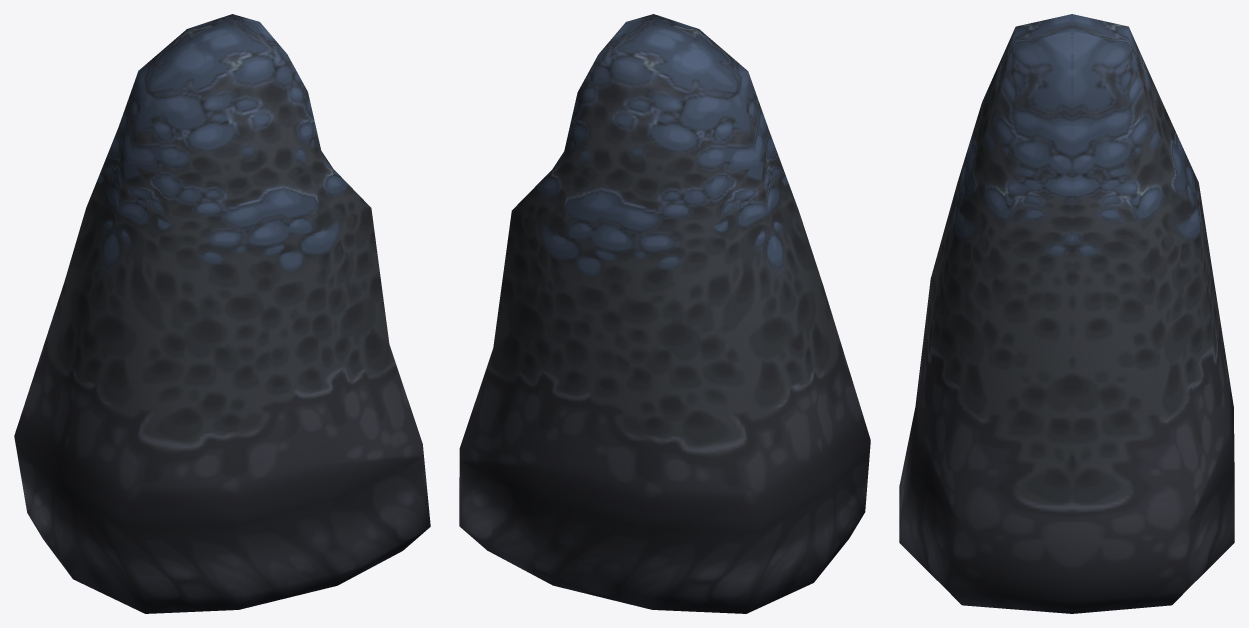
The model's file is Rock_05b.FBX.
3 renders of one model, left to right at view 1: azimuth 30°, elevation 25°; view 2: azimuth 150°, elevation 25°; view 3: azimuth 270°, elevation 25°, orthographic. The views are drawn at different scales.
Visible parts, largest first — view 1: Rock_05b; view 2: Rock_05b; view 3: Rock_05b.
Part boxes in pixels (<box>): Rock_05b: <box>14,14,430,613</box>; Rock_05b: <box>459,14,870,613</box>; Rock_05b: <box>899,14,1234,613</box>.
Bounding box in the file's own units: 51.86 × 76.42 × 44.04.
